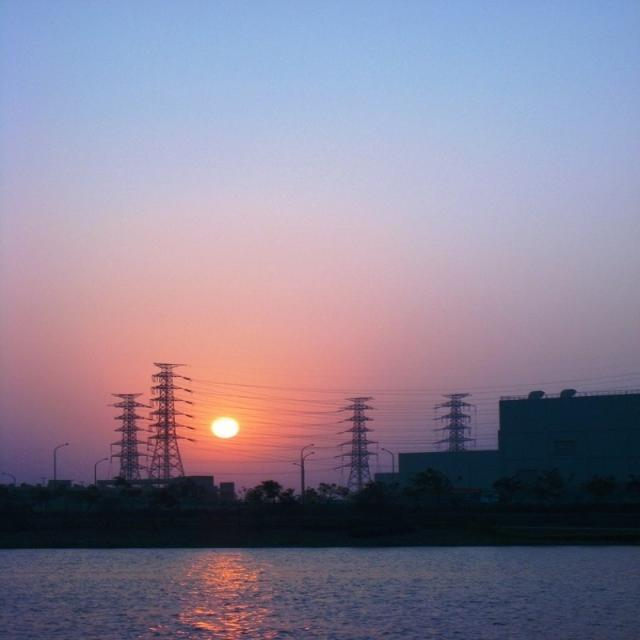non-critical vegetation: (141, 360, 192, 477), (104, 385, 152, 478), (327, 396, 378, 483), (423, 387, 478, 451)
